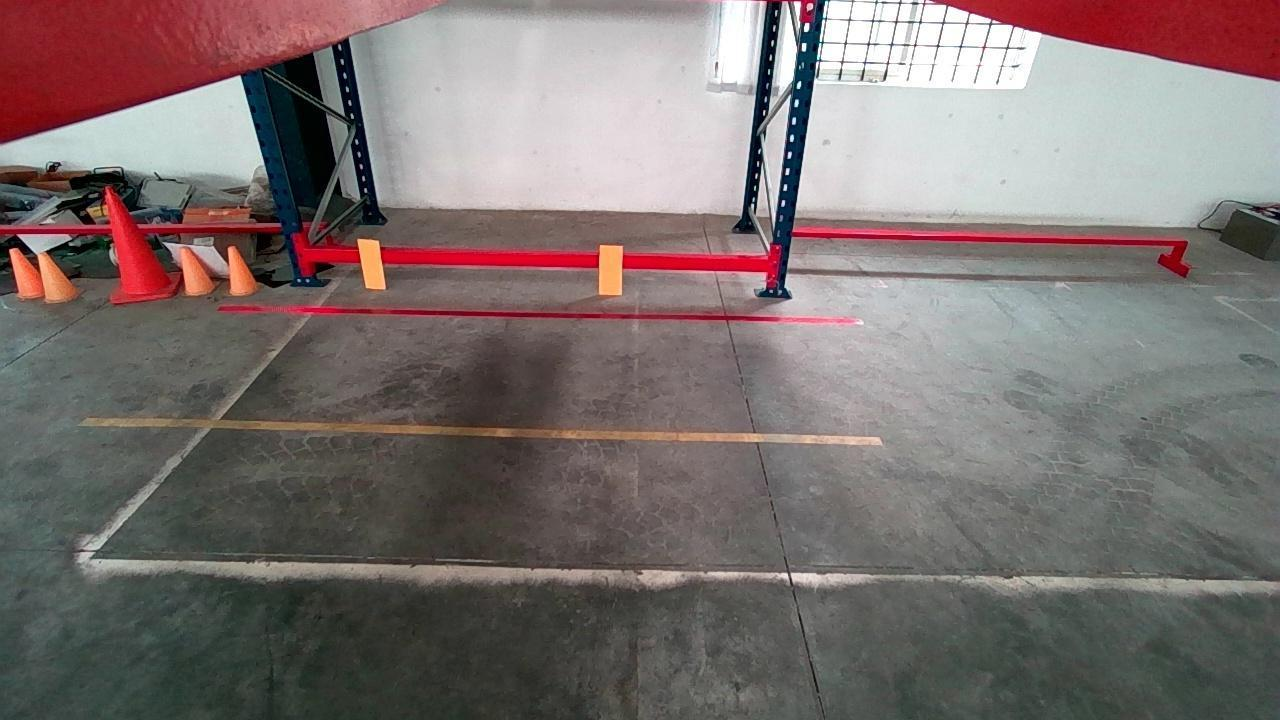h_rack: (306, 249, 771, 270)
orange_strip: (359, 240, 388, 288), (598, 243, 622, 294)
red_line: (213, 304, 864, 325)
yellow_line: (82, 417, 886, 444)
